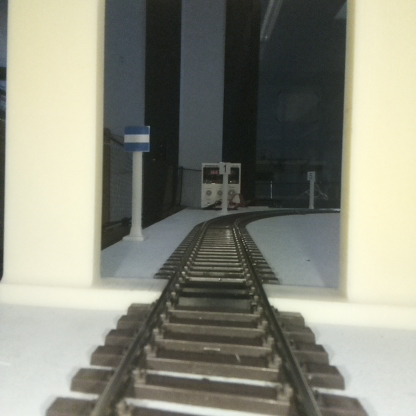start: (124, 125, 150, 238)
white-info-1: (219, 161, 230, 211)
